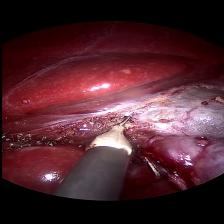Hook: (79, 114, 136, 162)
